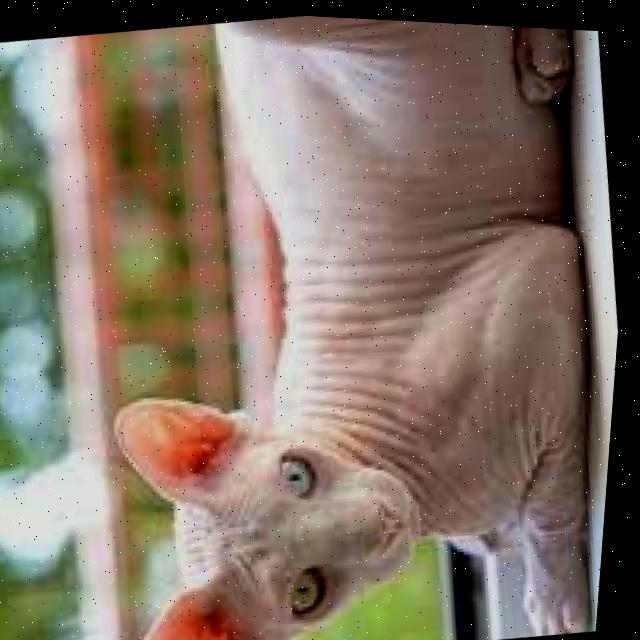Sphynx: (40, 3, 640, 640)
